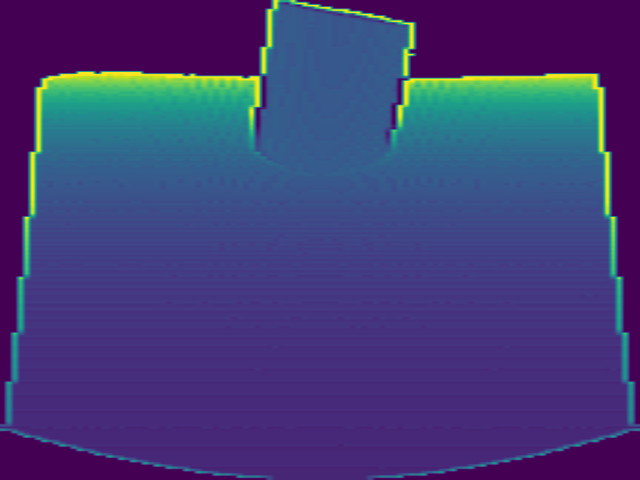cylinder: (247, 2, 414, 169)
